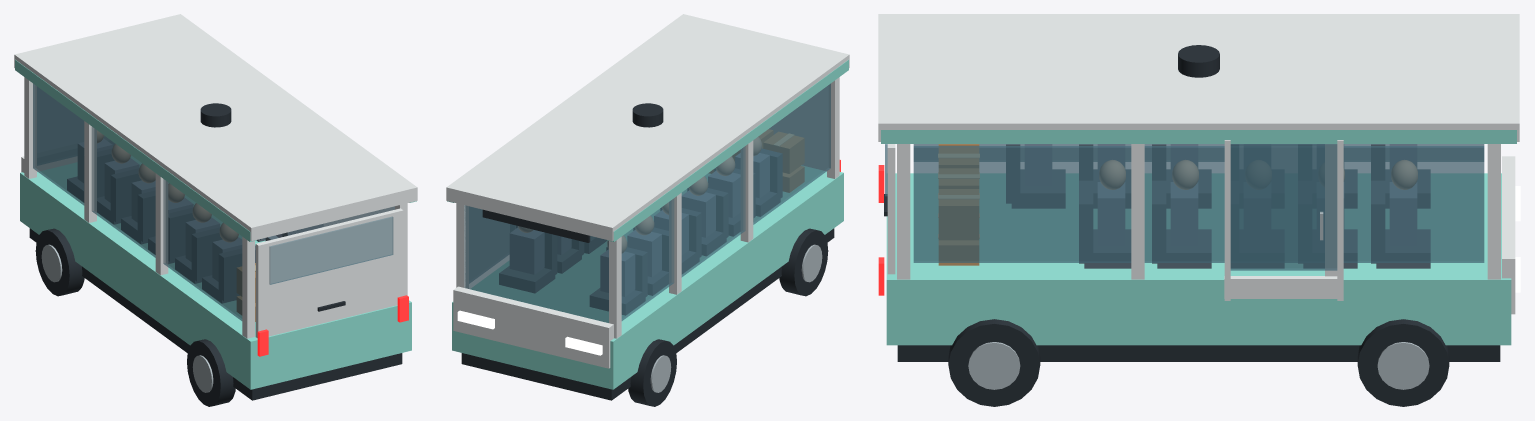
The model's file is drt-teal.glb.
The picture shows the model from 3 angles, left to right: view 1: azimuth 30°, elevation 25°; view 2: azimuth 150°, elevation 25°; view 3: azimuth 270°, elevation 25°; orthographic projection. The views are drawn at different scales.
Visible parts, largest first — view 1: ROOF, LowerBody, Window, HatchBody, Pillar (×5), SeatBack (×6), RearWindow, Wheel (×2), Chassis, RoofRail, Windshield, Body (×5) (+2 smaller); view 2: ROOF, LowerBody, Window (×2), Windshield, FrontFace, Body (×7), Pillar (×5), Wheel (×2), SeatBase (×6), Chassis, SeatBack (×5), RoofRail (+6 smaller); view 3: ROOF, Window (×2), LowerBody, DoorGlass, Wheel (×2), RoofRail, SeatBase (×7), Pillar (×4), Chassis, Body (×4), Box (×4), WheelHub (×2) (+7 smaller).
Part boxes in pixels (x1,y1,x2,y2): ROOF: (14,14,417,241); LowerBody: (20,156,411,389); Window: (33,83,242,320); HatchBody: (255,208,403,337); Pillar (×5): (24,77,407,338); SeatBack (×6): (97,149,255,300); RearWindow: (269,216,393,284); Wheel (×2): (35,228,235,406); Chassis: (29,228,402,400); RoofRail: (15,59,256,241); Windshield: (37,87,114,165); Body (×5): (78,138,241,281); ROOF: (446,14,849,241); LowerBody: (452,165,843,389); Window (×2): (469,83,830,320); Windshield: (464,205,608,322); FrontFace: (453,286,613,368); Body (×7): (510,153,769,296); Pillar (×5): (456,77,839,338); Wheel (×2): (628,228,828,406); SeatBase (×6): (499,191,780,315); Chassis: (461,228,834,400); SeatBack (×5): (516,149,782,296); RoofRail: (607,59,848,241); ROOF: (878,14,1519,141); Window (×2): (913,144,1484,262); LowerBody: (886,173,1511,345); DoorGlass: (1230,144,1337,270); Wheel (×2): (948,319,1449,406); RoofRail: (881,130,1516,143); SeatBase (×7): (1012,169,1430,268); Pillar (×4): (897,144,1500,279); Chassis: (897,345,1500,361); Body (×4): (1024,144,1416,245); Box (×4): (938,148,979,265); WheelHub (×2): (968,342,1429,389).
Bounding box in the file's own units: 2.52 × 2.94 × 5.81.
